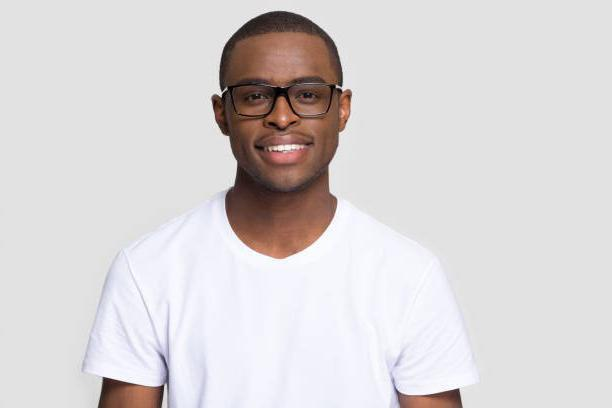Sober: (232, 37, 338, 181)
